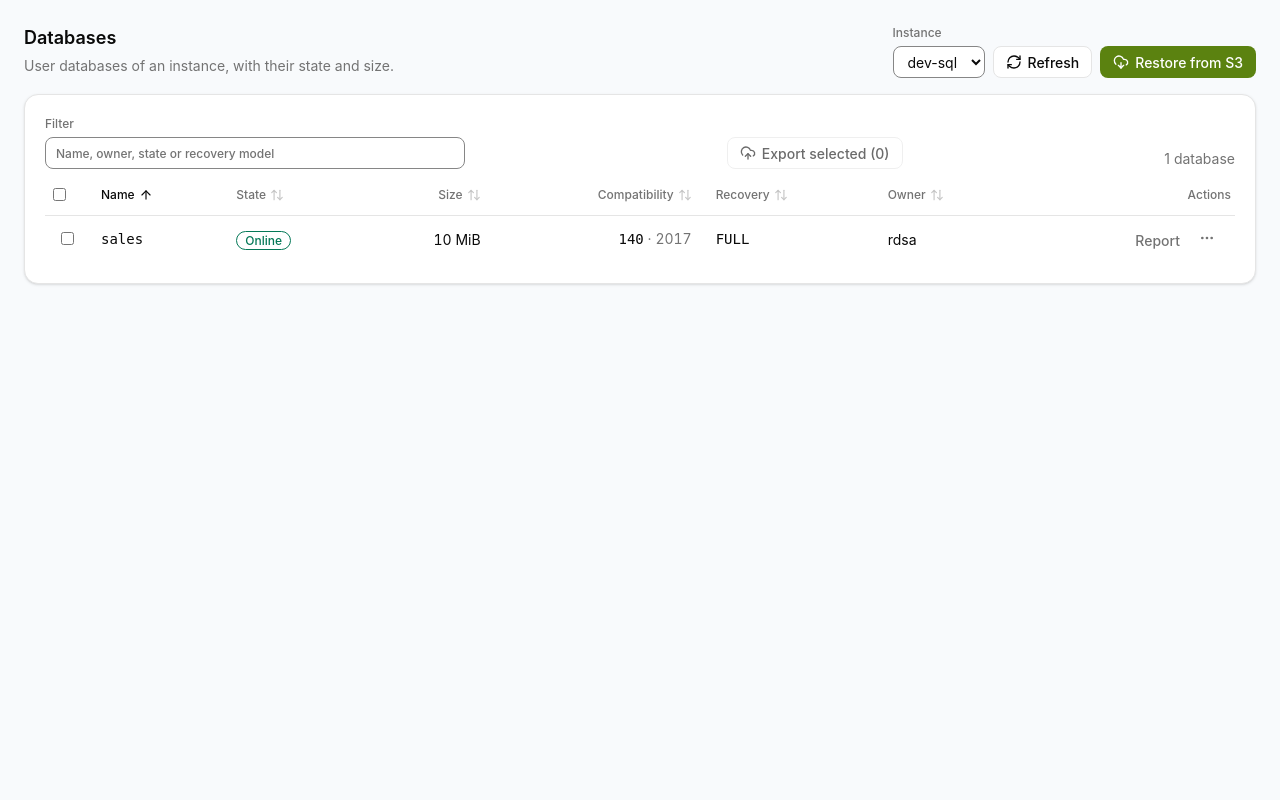
the access panel › shows a 502 from the engine
Expected: the column heading "Actions" is shown, [1019, 181, 1235, 215]
Click the button named "Actions for sales" at (1207, 238), box [1191, 224, 1223, 252]
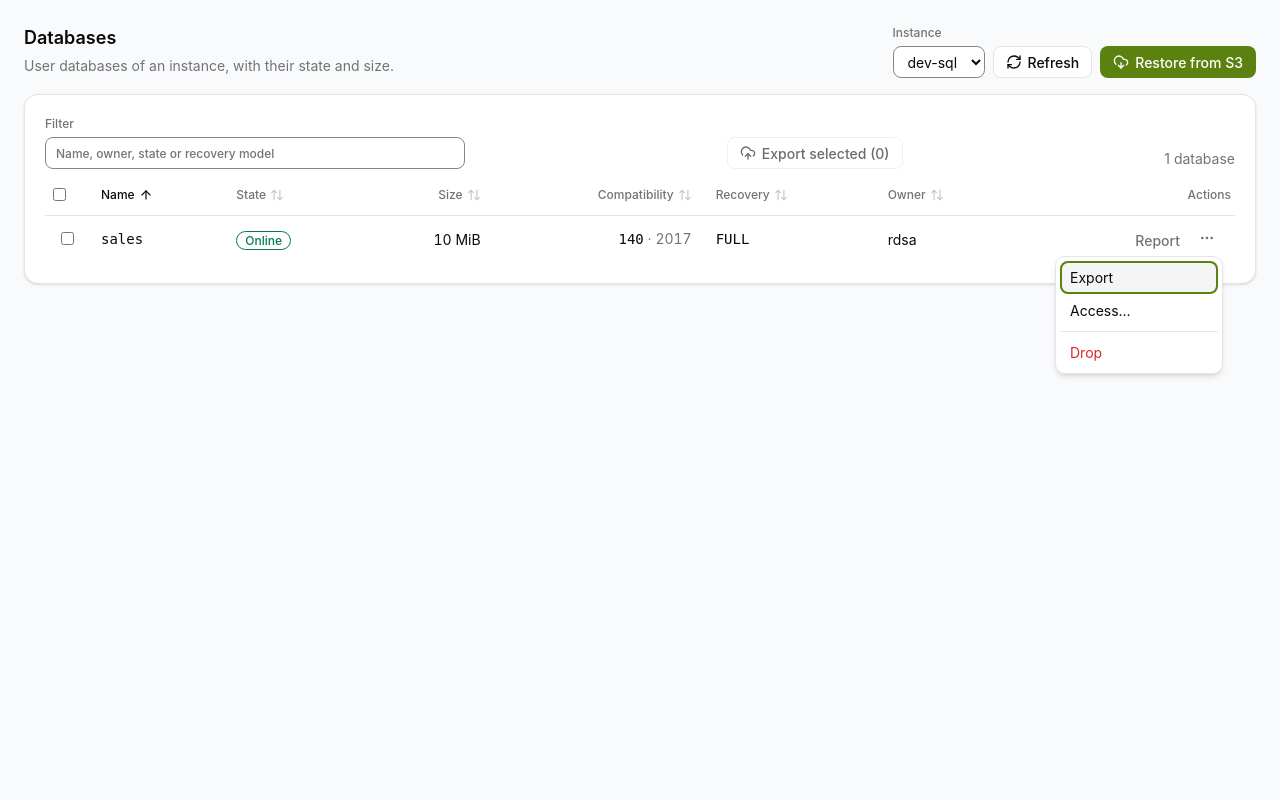
Expected: the menu is shown, [1055, 256, 1223, 374]
Click the menu item with aria-label "Access to sales" at (1139, 310), box [1060, 294, 1218, 327]
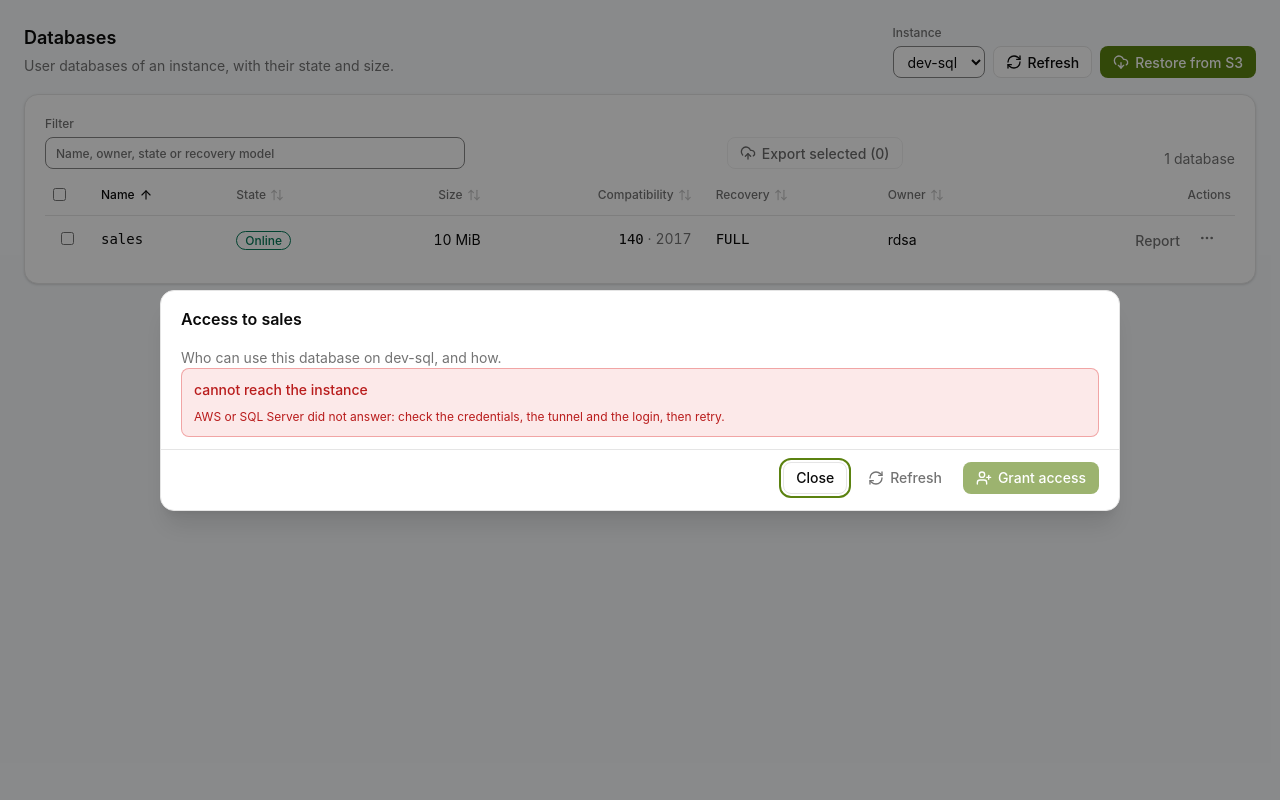
Expected: the text "cannot reach the instance" is shown, [194, 380, 368, 398]
